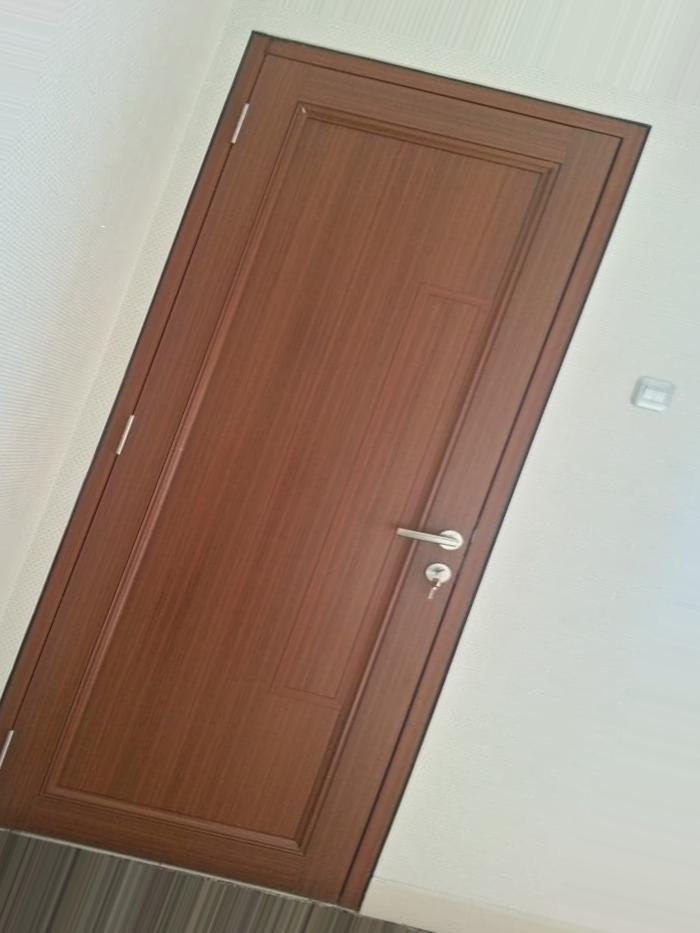door: (23, 28, 654, 932)
